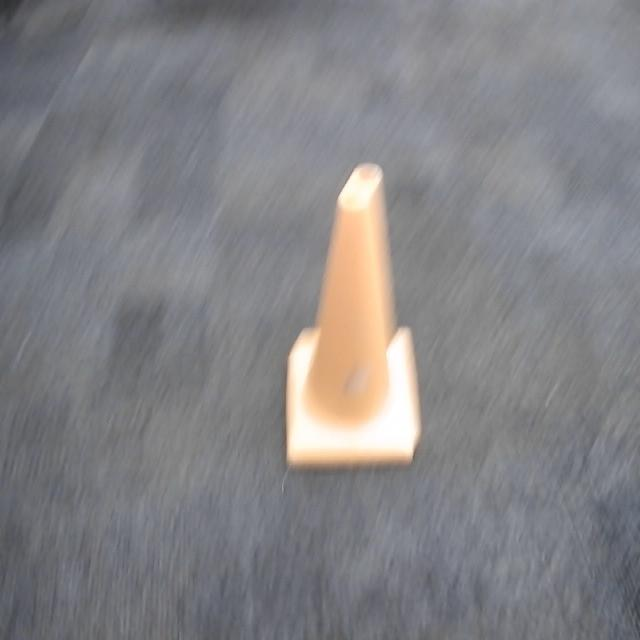cone: (285, 160, 421, 467)
